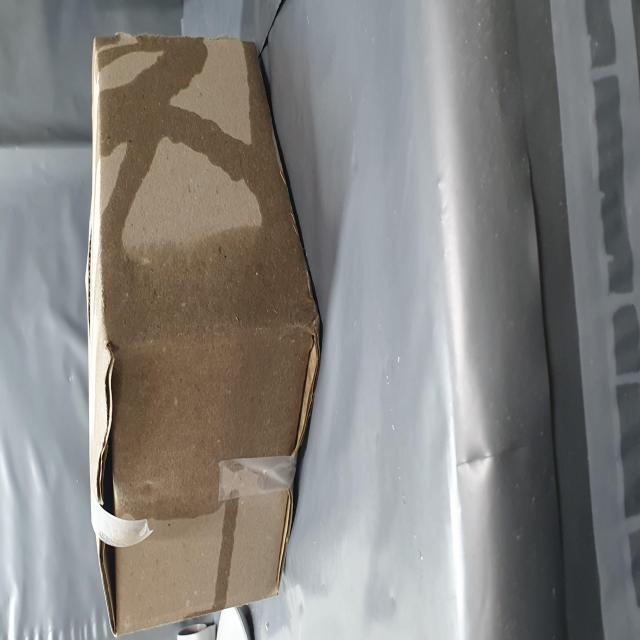wet: (75, 170, 344, 554), (9, 356, 82, 428)
